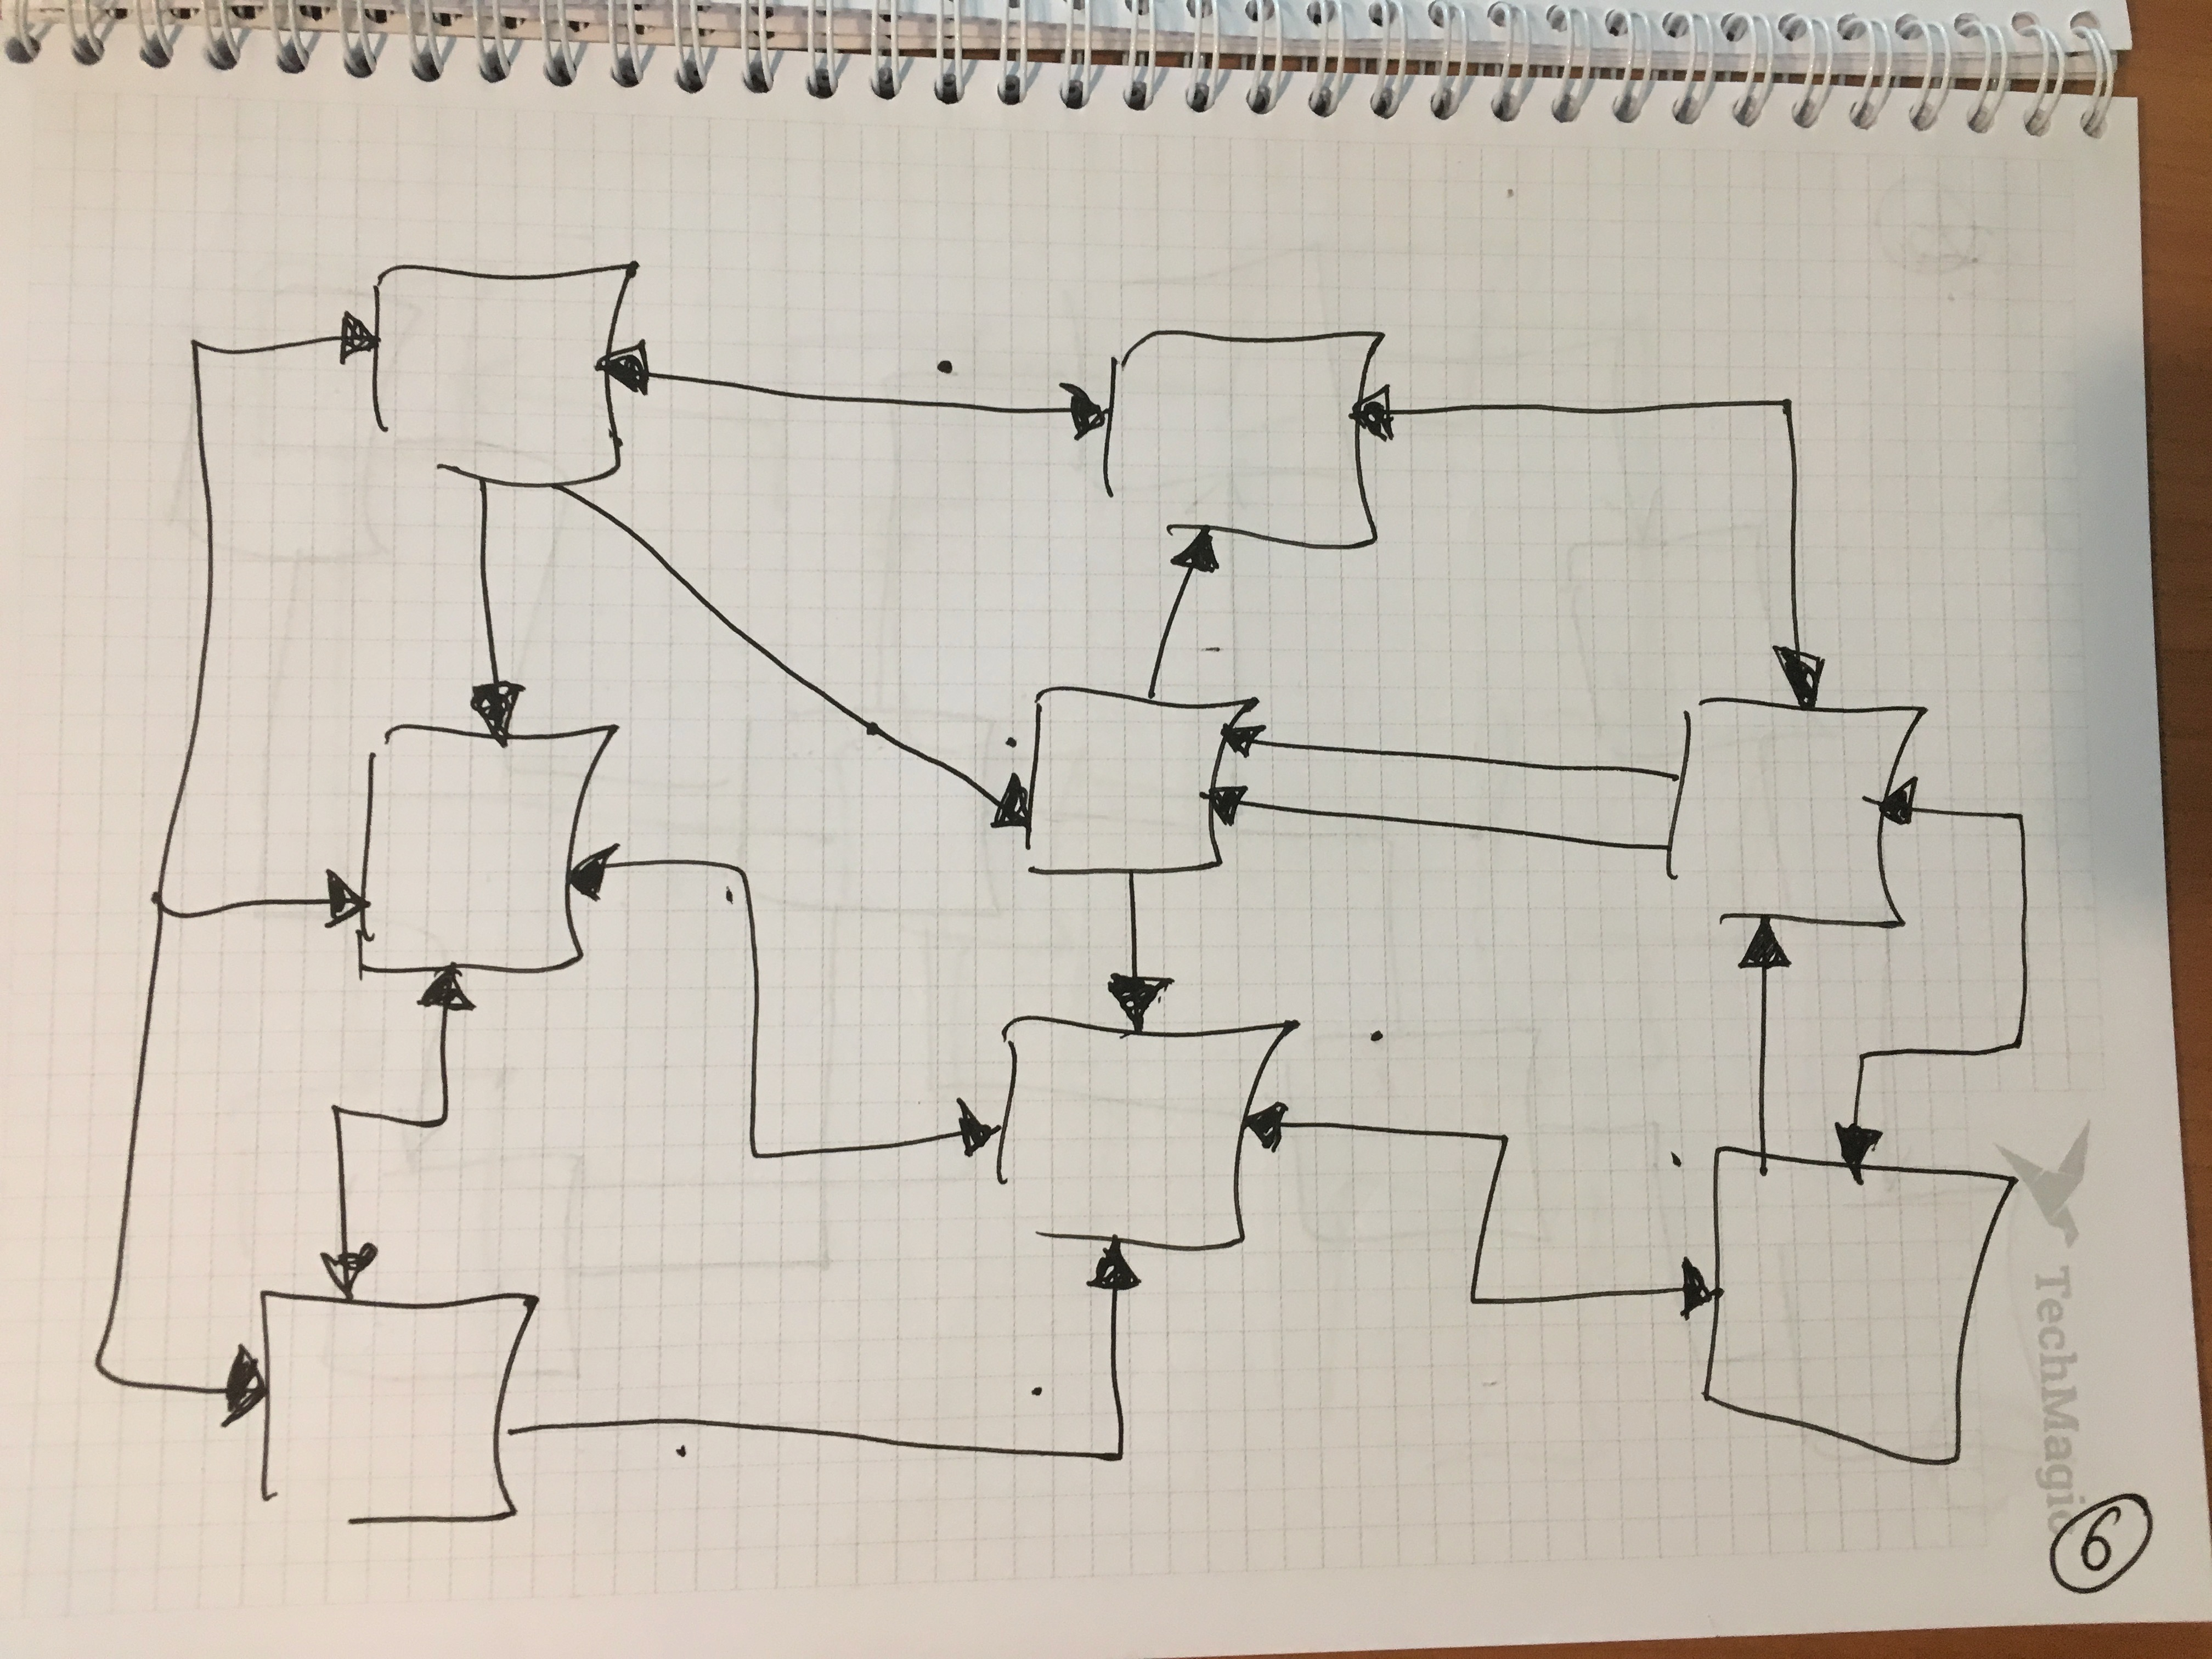arrow: (570, 315, 737, 410), (902, 772, 1054, 843), (171, 1340, 282, 1431), (1604, 1253, 1735, 1330), (1759, 603, 1839, 725), (1099, 939, 1186, 1051), (260, 859, 390, 932), (314, 1202, 383, 1338), (1822, 1068, 1898, 1190), (463, 638, 529, 775), (268, 305, 387, 380), (1343, 385, 1475, 450), (1853, 765, 1958, 840), (1235, 1101, 1355, 1166), (1165, 500, 1223, 634), (550, 847, 691, 901), (1007, 389, 1136, 446), (892, 1107, 1007, 1171), (1089, 1220, 1146, 1345), (425, 958, 479, 1066), (1195, 789, 1332, 830), (1738, 899, 1796, 993), (1200, 716, 1318, 760)
